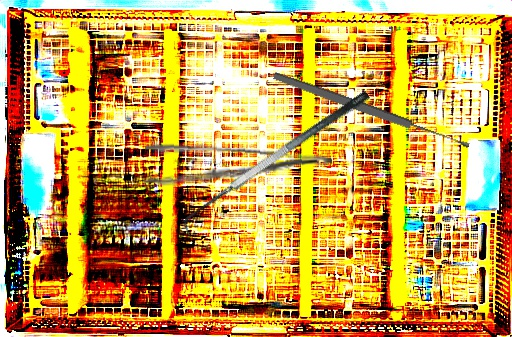Dressing Forceps: (142, 140, 333, 199)
Spatula Surgical: (174, 89, 381, 239)
Surgical Spoon: (272, 69, 471, 153)
